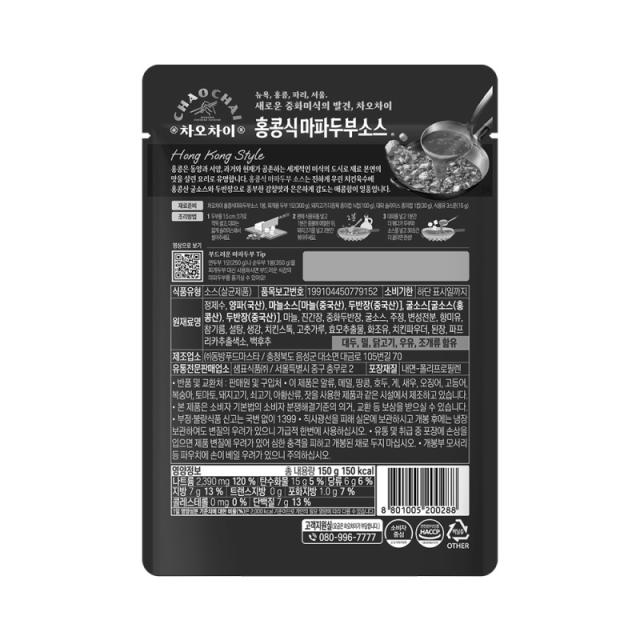Nutrition Label: (169, 464, 381, 521)
